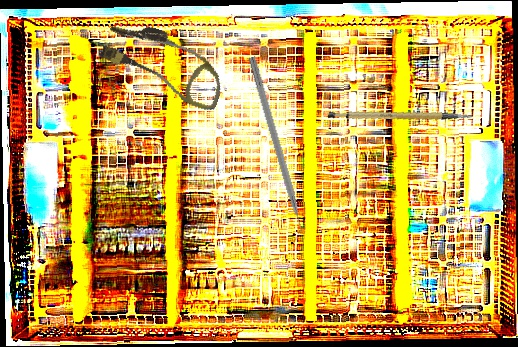Cannula: (94, 14, 234, 113)
Chopper: (238, 56, 308, 244)
Scalpel Handle: (327, 92, 473, 142)
